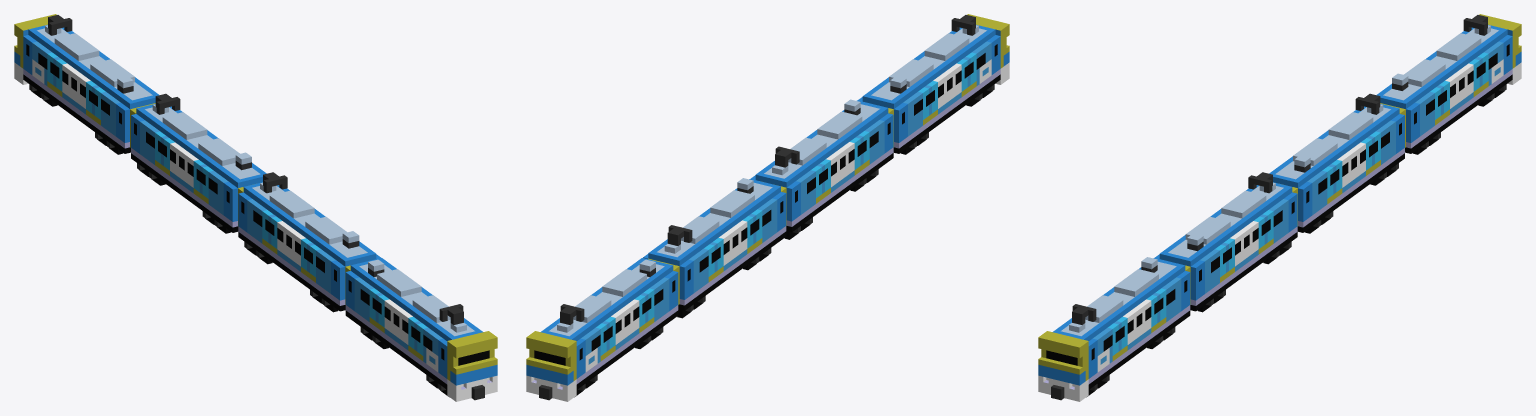
The model's file is crossy_road_train (1).glb.
3 views of the same model, side by side, from view 1: azimuth 30°, elevation 25°; view 2: azimuth 150°, elevation 25°; view 3: azimuth 330°, elevation 25° (orthographic).
Size of the model in its own units: 1.36 by 2.37 by 25.33.
